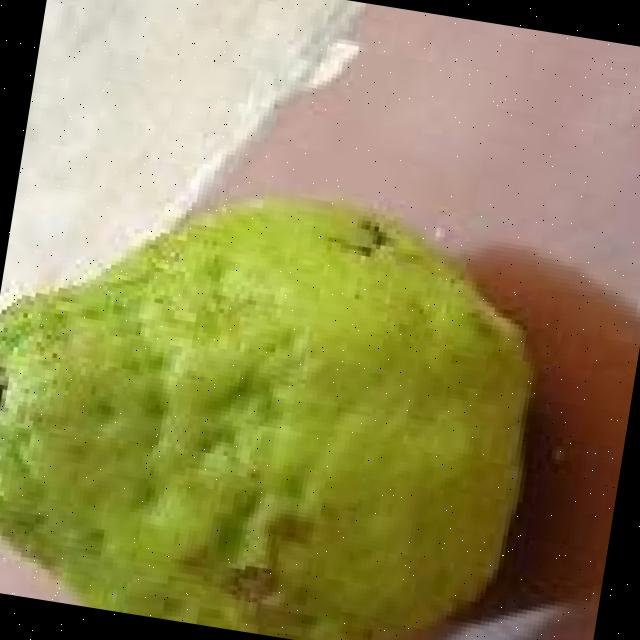Good_Guava 5-7 days: (0, 205, 531, 640)
